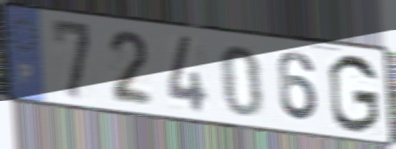0: (218, 43, 268, 119)
2: (107, 28, 155, 107)
4: (165, 33, 211, 115)
6: (276, 50, 321, 124)
7: (49, 16, 93, 104)
G: (326, 52, 381, 137)
